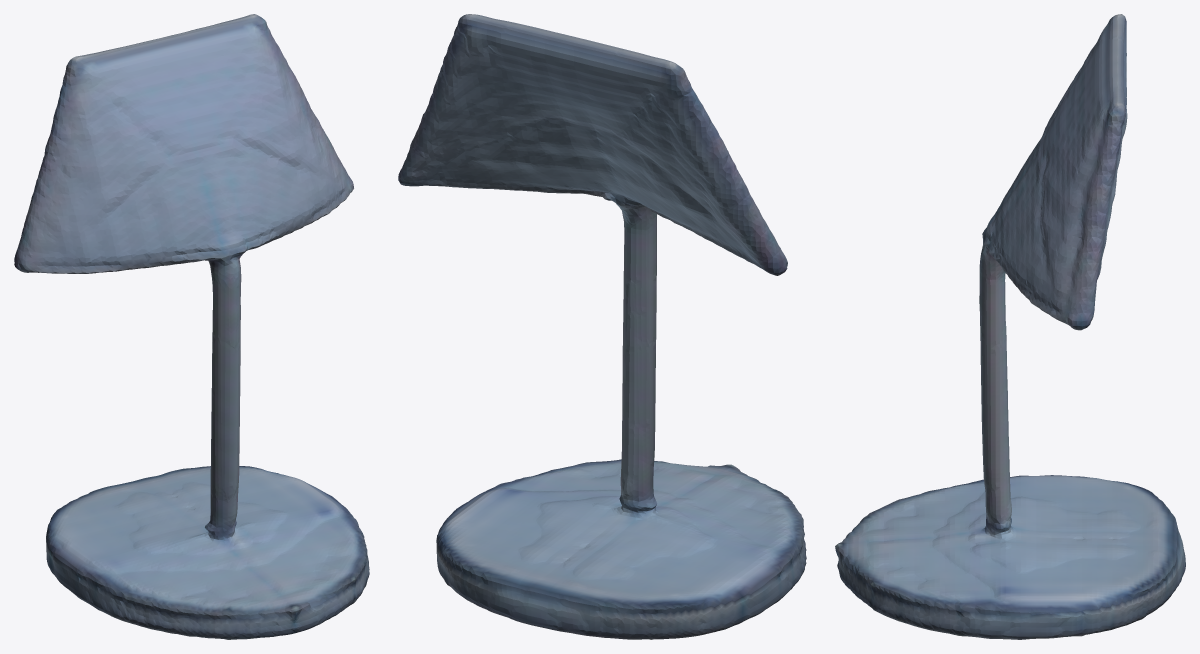
File: model_from_best_candidate.glb
3 renders of one model, left to right at view 1: azimuth 30°, elevation 25°; view 2: azimuth 150°, elevation 25°; view 3: azimuth 270°, elevation 25°, orthographic. The views are drawn at different scales.
Visible parts, largest first — view 1: geometry_0; view 2: geometry_0; view 3: geometry_0.
Part boxes in pixels (x1,y1,x2,y2): geometry_0: [14, 14, 369, 639]; geometry_0: [398, 14, 806, 639]; geometry_0: [835, 14, 1185, 639].
Size of the model in its own units: 0.6985 by 1 by 0.6092.
